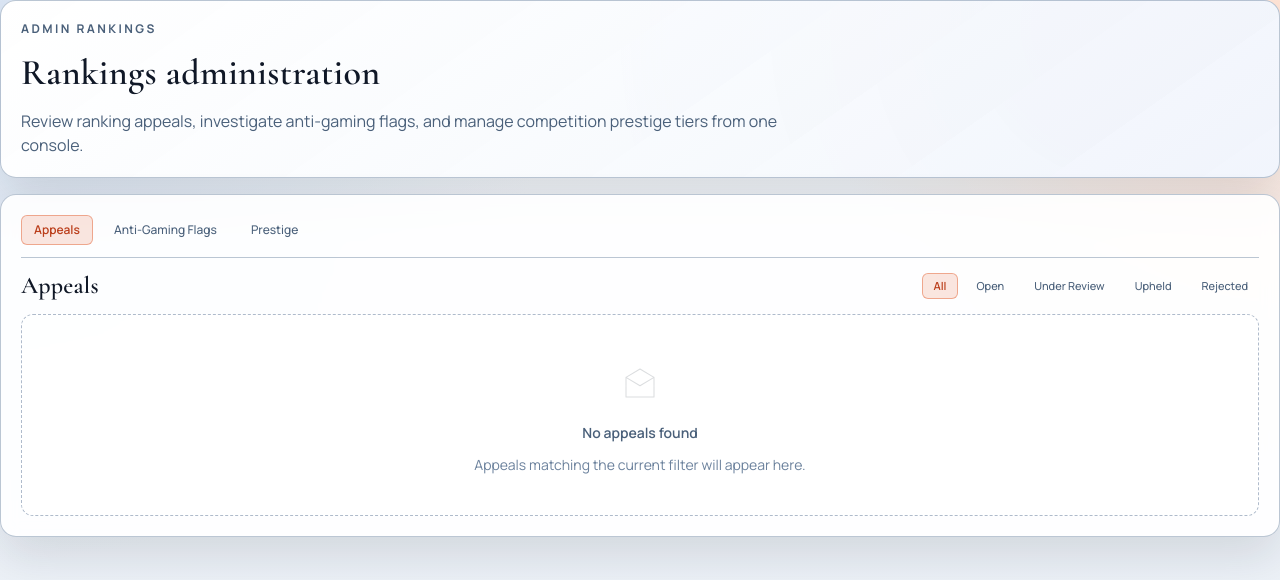
Test: AdminRankingsPage › shows flags non-ApiError fallback when network throws
Expected: the heading "Rankings administration" is shown, [21,51,380,94]
What coordinates should you click on to do the following:
click the button "Anti-Gaming Flags"
I would click on:
 (165, 230)
Its box is [101,215,230,245].
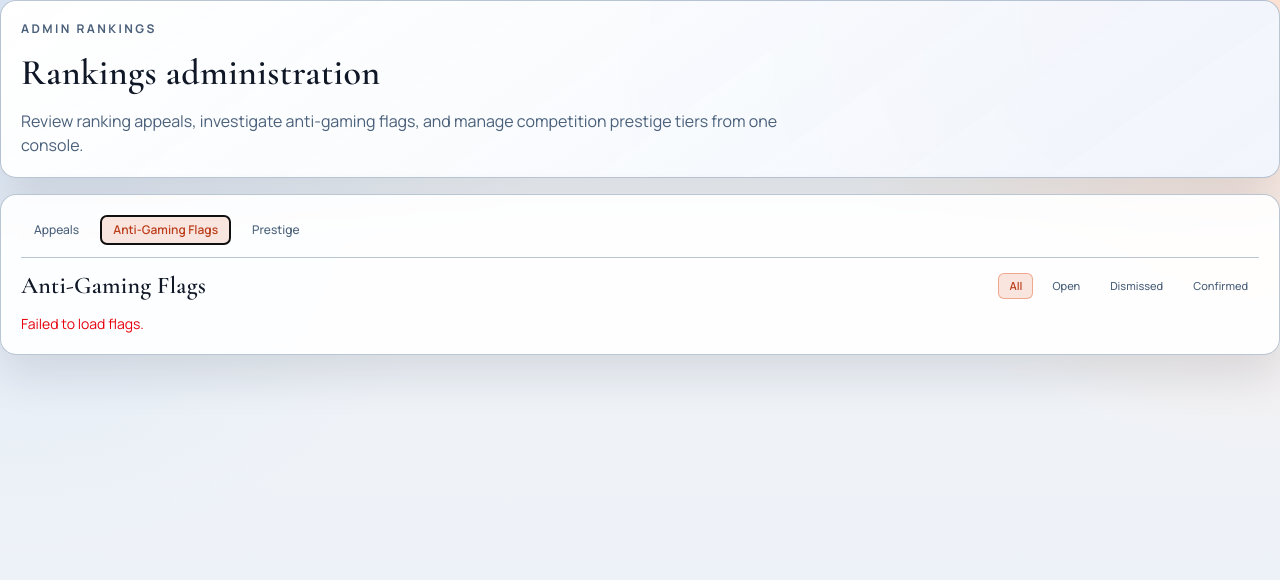
Expected: the text "Failed to load flags." is shown, [21,314,144,333]
